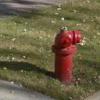Hydrant: (40, 20, 82, 92)
